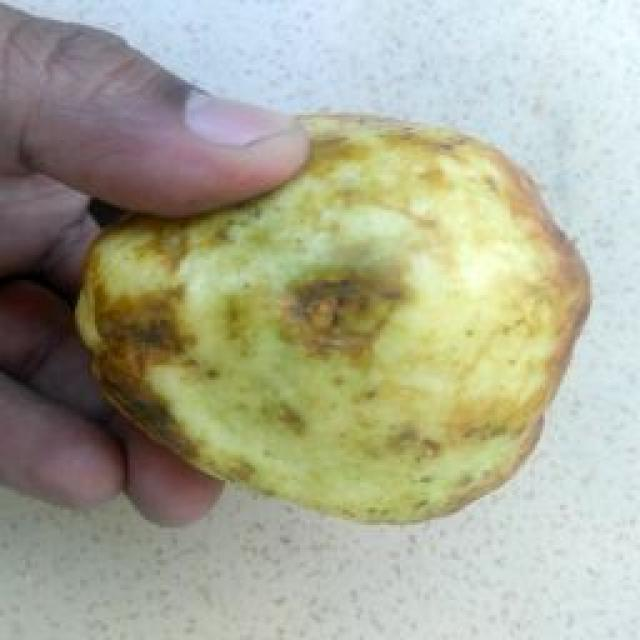Bad_Guava: (76, 116, 588, 521)
